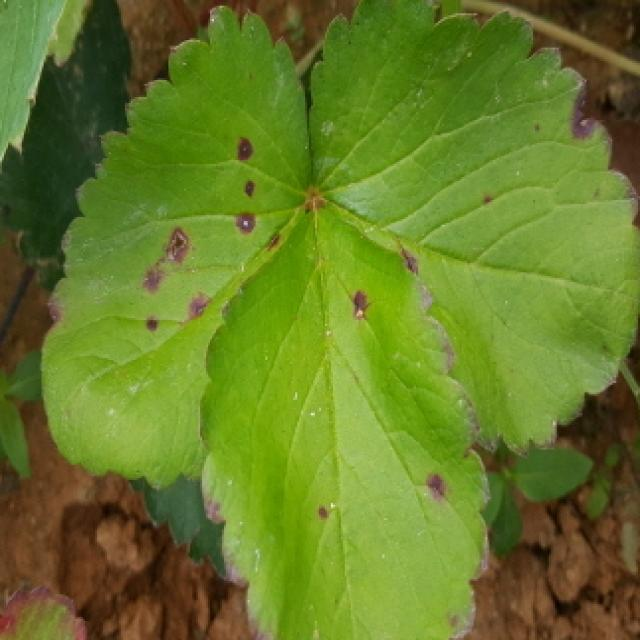Leaf Spot: (309, 0, 640, 458), (40, 3, 312, 493), (200, 197, 491, 640)
